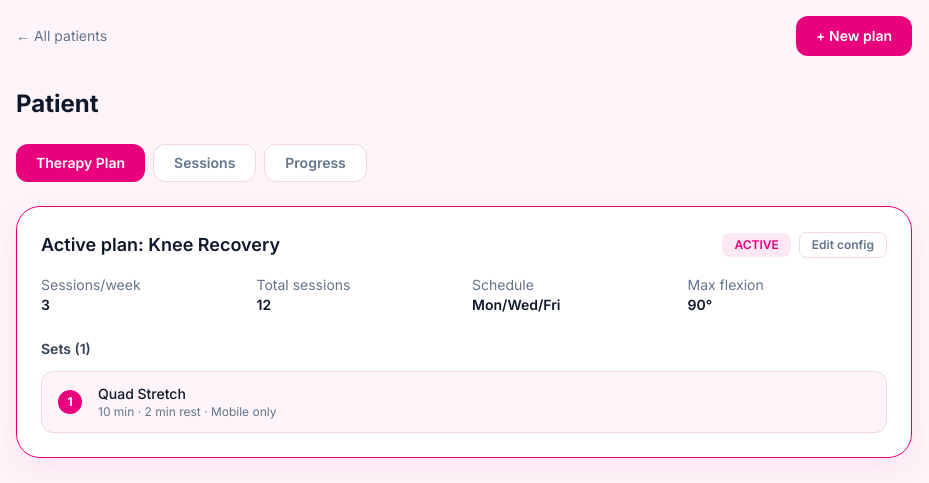
Scenario: PatientDetailPage › shows empty state when no sessions
Click the button "Sessions" at (205, 163), box [153,144,256,182]
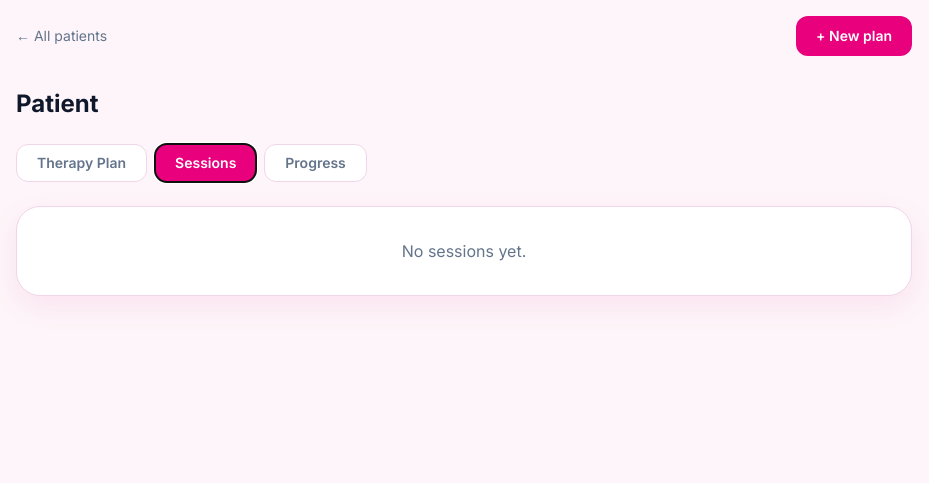
expect the text "No sessions yet." is shown: met, box [402,241,526,261]
